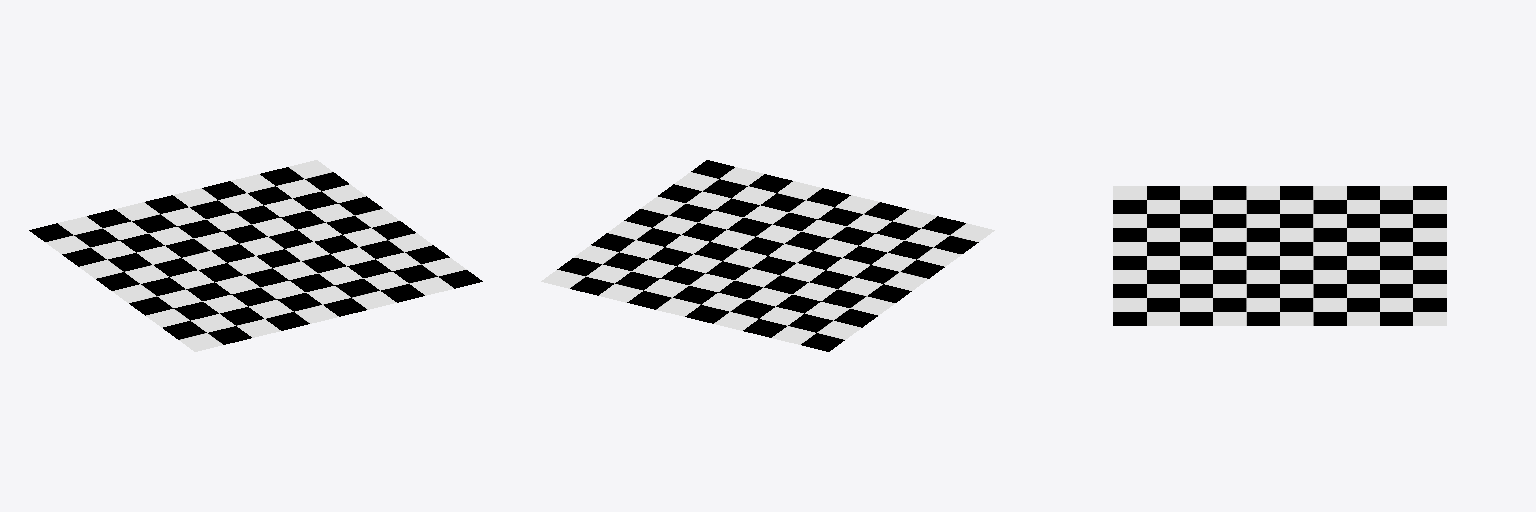
The picture shows the model from 3 angles: view 1: azimuth 30°, elevation 25°; view 2: azimuth 150°, elevation 25°; view 3: azimuth 270°, elevation 25°; orthographic projection.
Parts seen in each view (by area): view 1: Plane; view 2: Plane; view 3: Plane.
Boxes of the visible parts, x1=… form: Plane: x1=29, y1=160, x2=482, y2=351; Plane: x1=541, y1=160, x2=994, y2=351; Plane: x1=1113, y1=186, x2=1446, y2=325.
Bounding box in the file's own units: 8 × 0 × 8.
Materials: 1 (1 with a texture image).